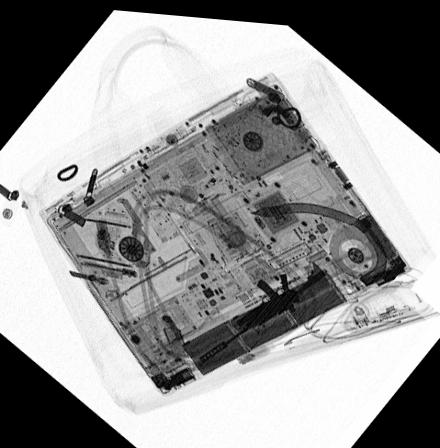Gun: (198, 269, 304, 361)
